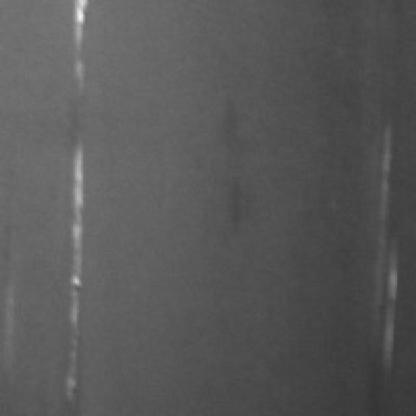inclusion: (216, 172, 248, 240)
scratches: (366, 125, 400, 372), (54, 139, 85, 387), (62, 0, 90, 85)
